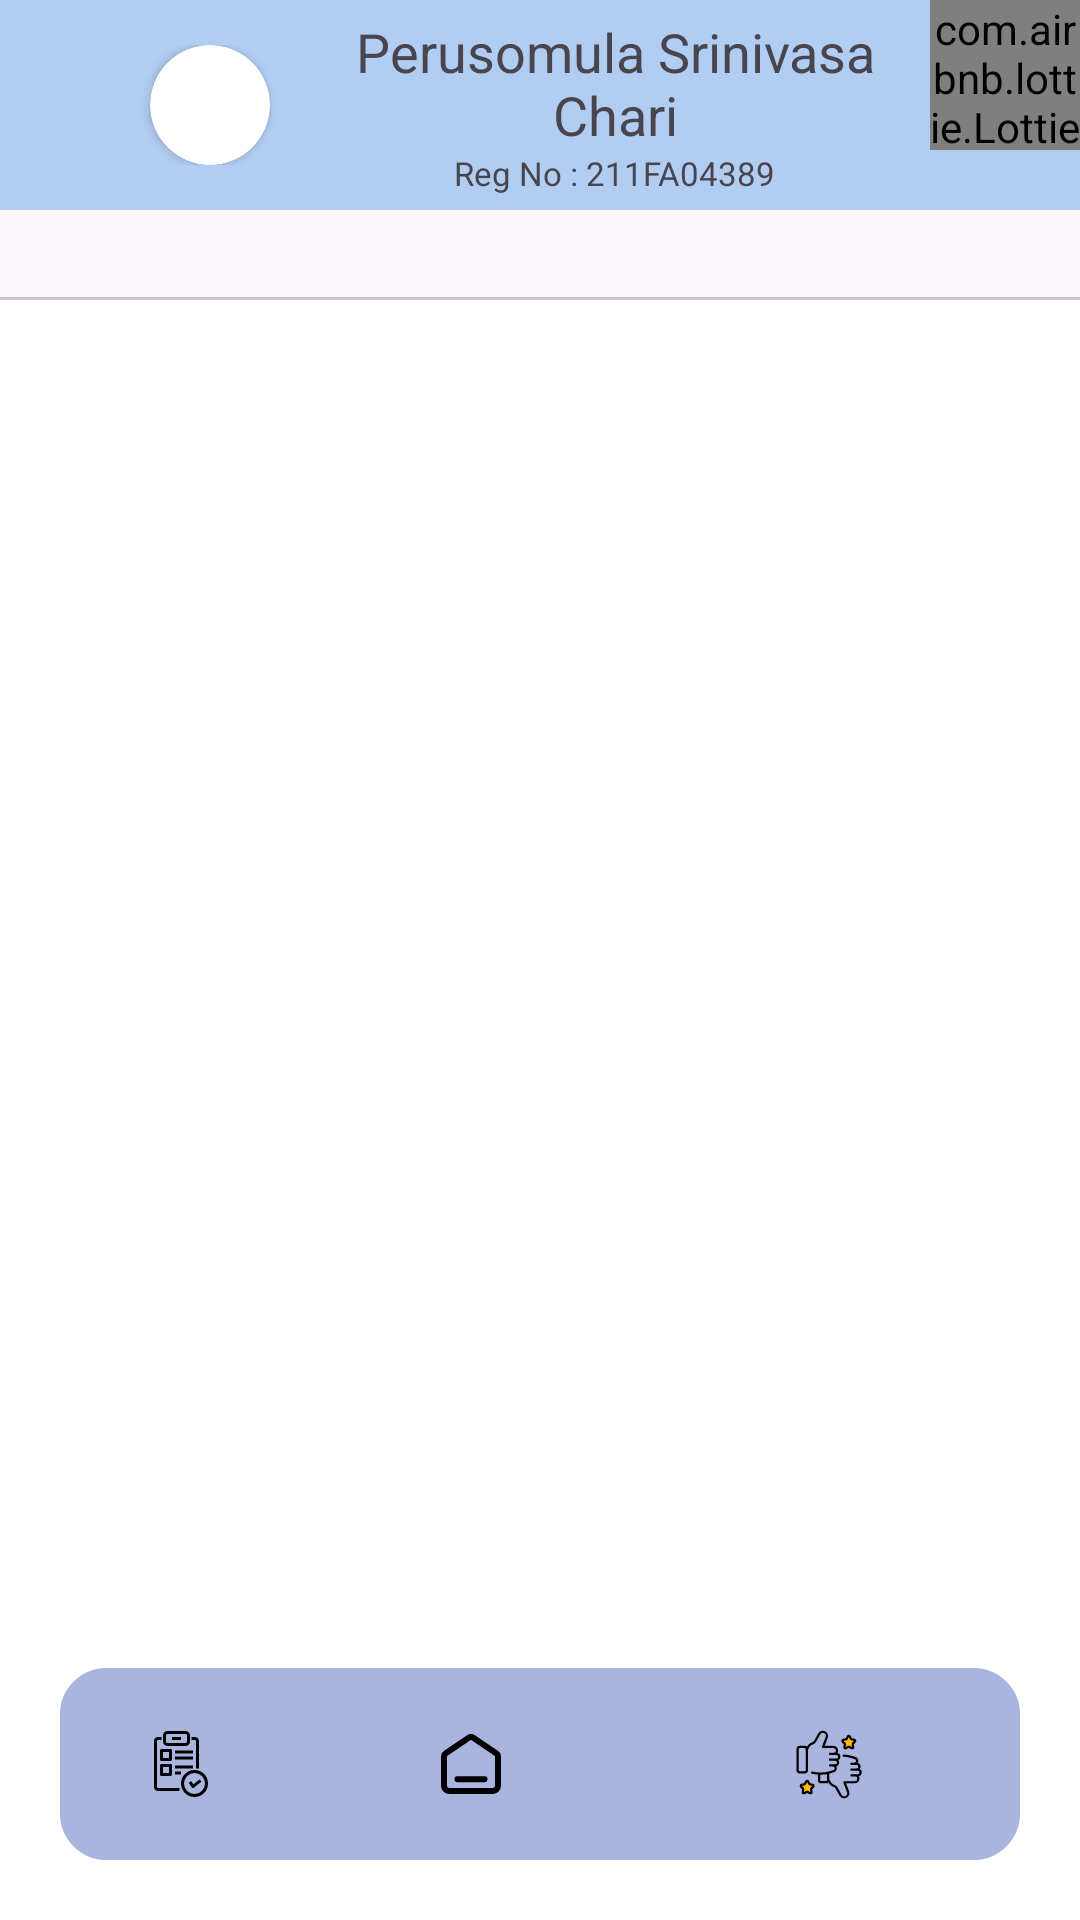

Icons on this 1080px×1920px Android screen, each with the point to tap as (x,y):
Feedback: (829,1764)
